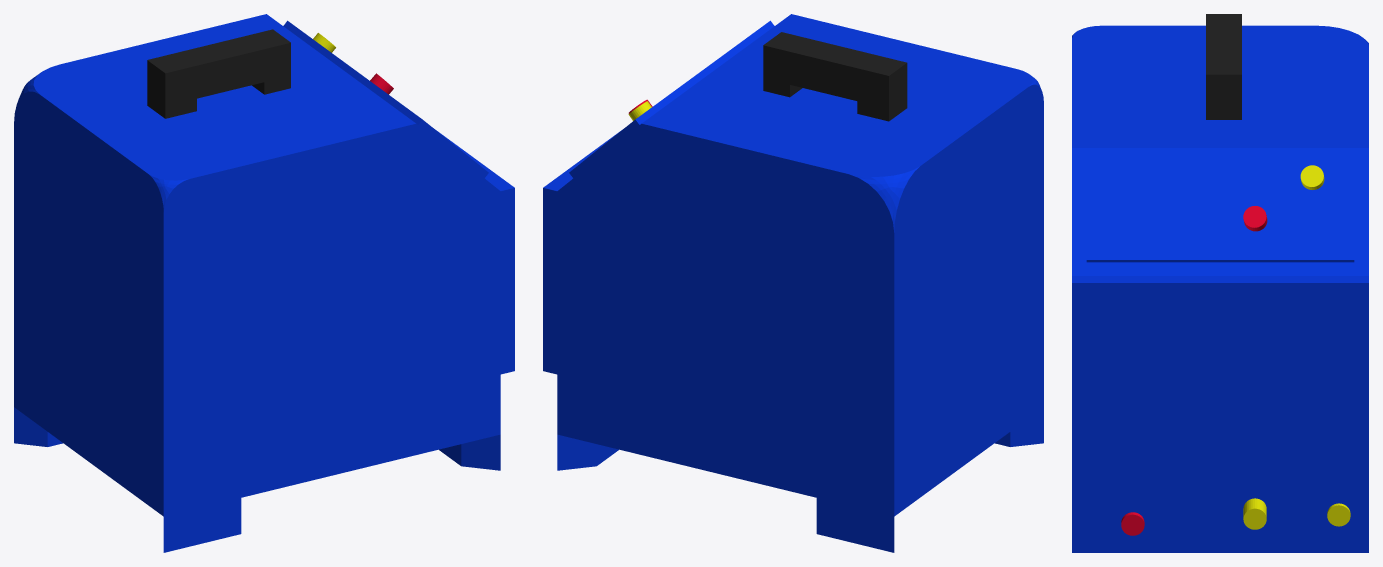
File: TIGWelder_m.fbx
3 renders of one model, left to right at view 1: azimuth 30°, elevation 25°; view 2: azimuth 150°, elevation 25°; view 3: azimuth 270°, elevation 25°, orthographic.
Parts seen in each view (by area): view 1: Cube, Cube.001; view 2: Cube, Cube.001; view 3: Cube, Cube.001, Cylinder.002, Cylinder.001, Cylinder, Cylinder.003, Cylinder.004.
Boxes of the visible parts, x1,y1,x2,y2 form: Cube: (14, 14, 514, 552); Cube.001: (147, 29, 290, 118); Cube: (543, 14, 1043, 552); Cube.001: (763, 32, 907, 121); Cube: (1072, 25, 1368, 552); Cube.001: (1206, 14, 1241, 119); Cylinder.002: (1243, 498, 1266, 529); Cylinder.001: (1243, 206, 1267, 231); Cylinder: (1300, 165, 1324, 189); Cylinder.003: (1121, 512, 1144, 535); Cylinder.004: (1327, 503, 1350, 526).
Size of the model in its own units: 276 by 304 by 200.
